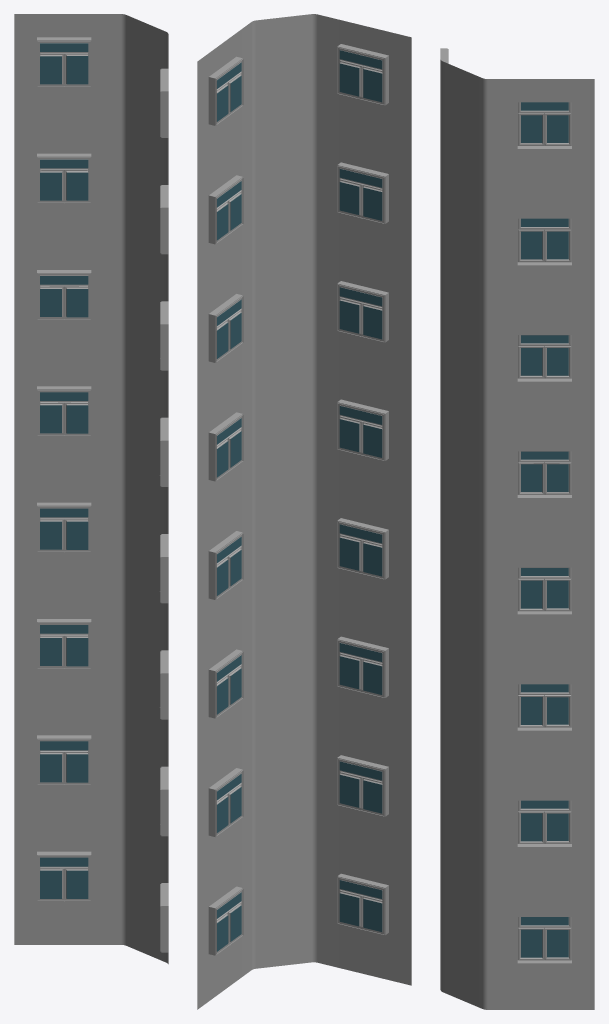
File: Ext_WallCorner_ApartmentsDouble_2x2_001.fbx
The picture shows the model from 3 angles, left to right: view 1: azimuth 90°, elevation 25°; view 2: azimuth 150°, elevation 25°; view 3: azimuth 270°, elevation 25°; orthographic projection.
Visible parts, largest first — view 1: polySurface26; view 2: polySurface26; view 3: polySurface26.
Boxes of the visible parts, x1=… form: polySurface26: x1=14, y1=14, x2=168, y2=964; polySurface26: x1=197, y1=14, x2=411, y2=1009; polySurface26: x1=440, y1=48, x2=594, y2=1009.
Bounding box in the file's own units: 300 × 2000 × 300.
